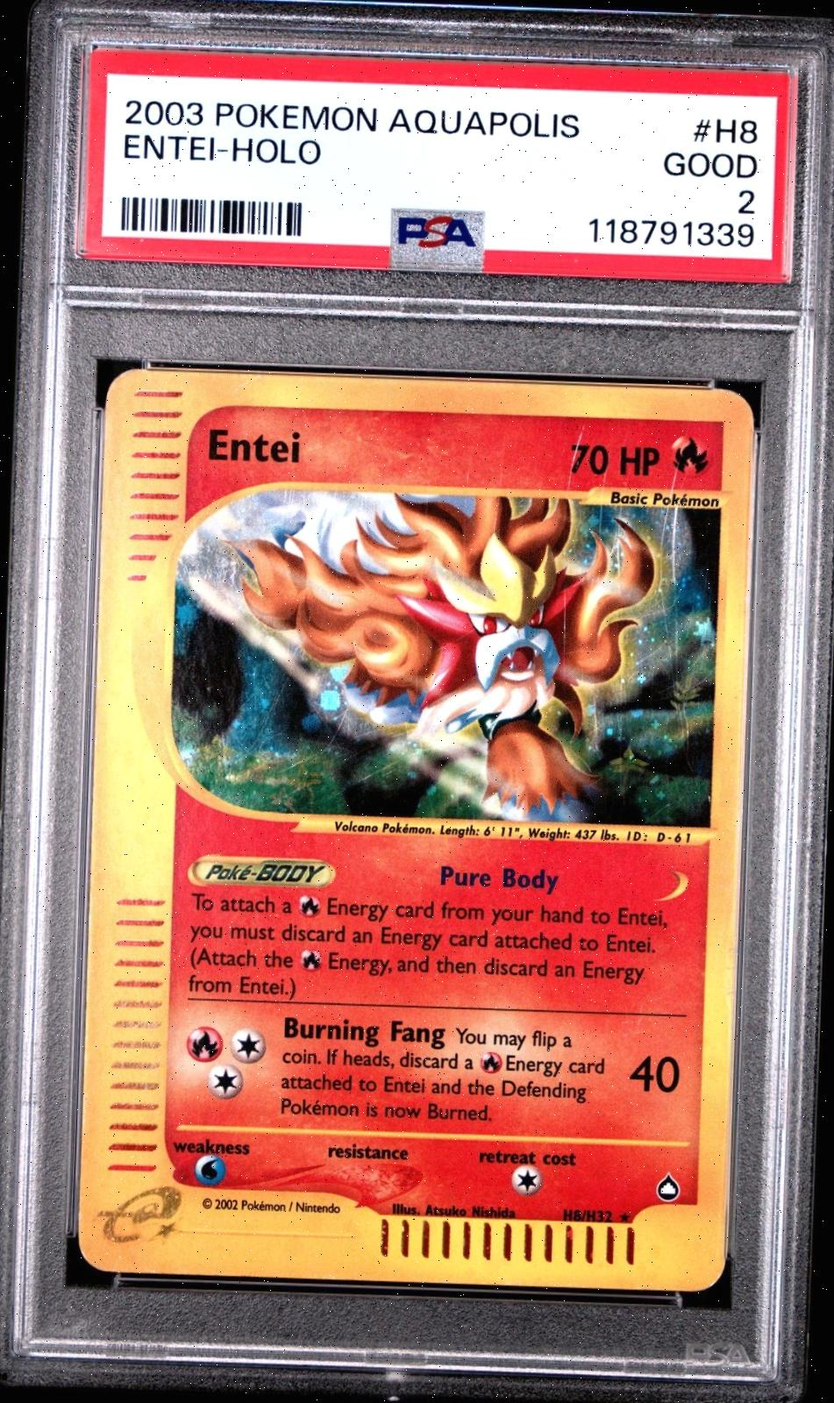card-2UtV: (77, 368, 754, 1293)
